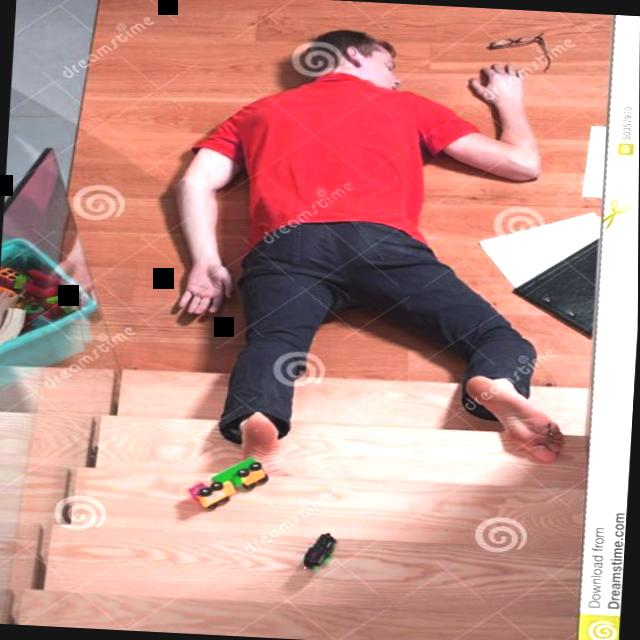Fall-Detected: (138, 0, 591, 539)
